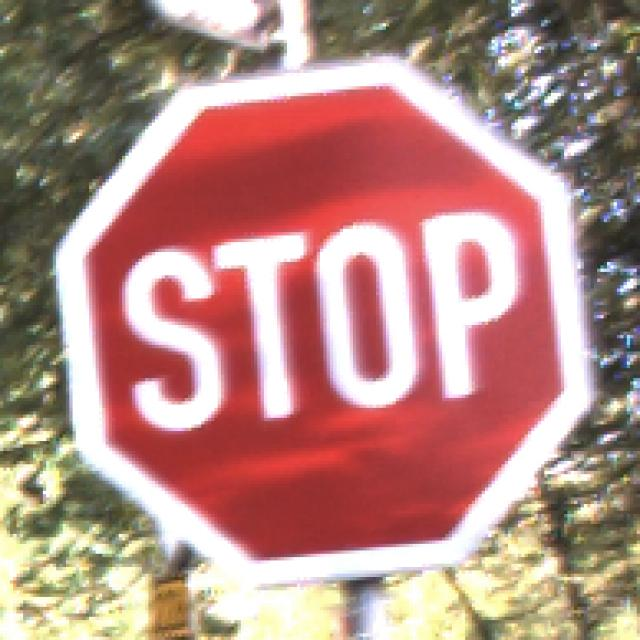STOP: (54, 57, 588, 588)
